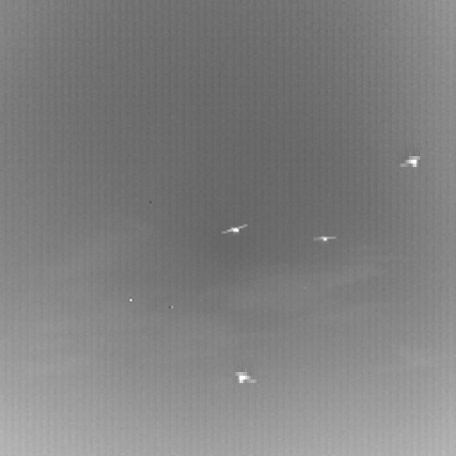plane: (393, 141, 423, 171), (232, 356, 262, 386), (218, 219, 244, 235), (309, 231, 334, 244)
